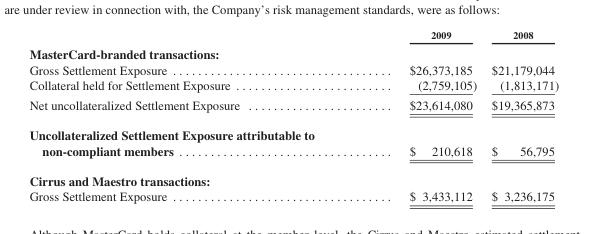table: (28, 28, 558, 202)
table column: (28, 28, 361, 202), (361, 28, 483, 202), (483, 28, 558, 202)
table column header: (28, 28, 558, 43)
table projected row header: (28, 165, 558, 188), (28, 43, 558, 61)
table row: (28, 119, 558, 165), (28, 94, 558, 119), (28, 165, 558, 188), (28, 43, 558, 61), (28, 76, 558, 94), (28, 28, 558, 43), (28, 61, 558, 76), (28, 188, 558, 202)
